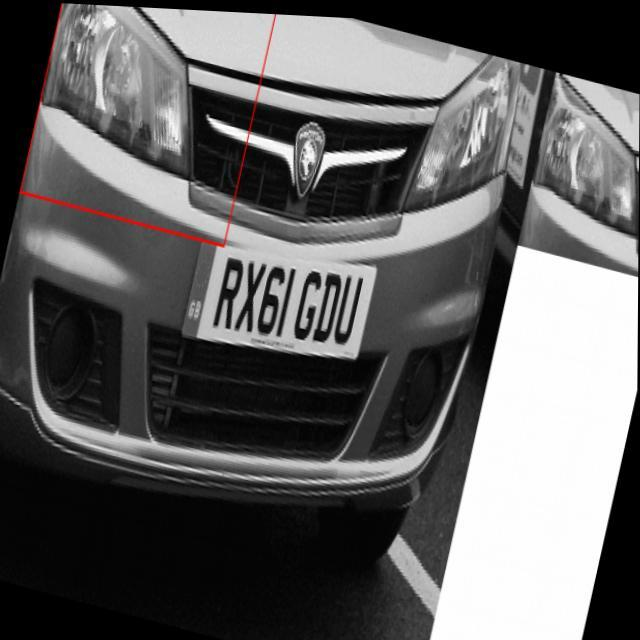license_plate: (192, 207, 380, 359)
